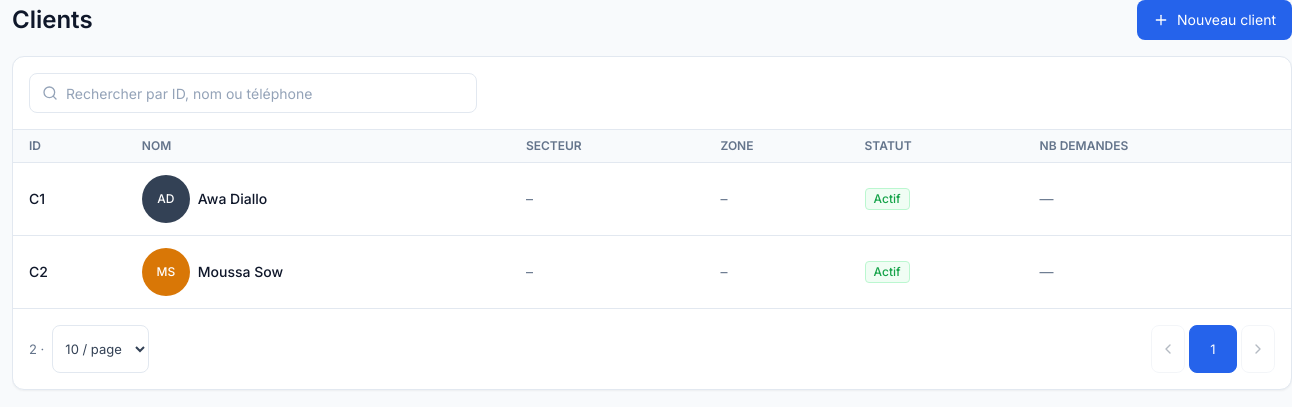
ClientsListPage › filters clients by search
Type "moussa" into the search field. click: coordinates (253, 93)
box: left=30, top=74, right=476, bottom=112
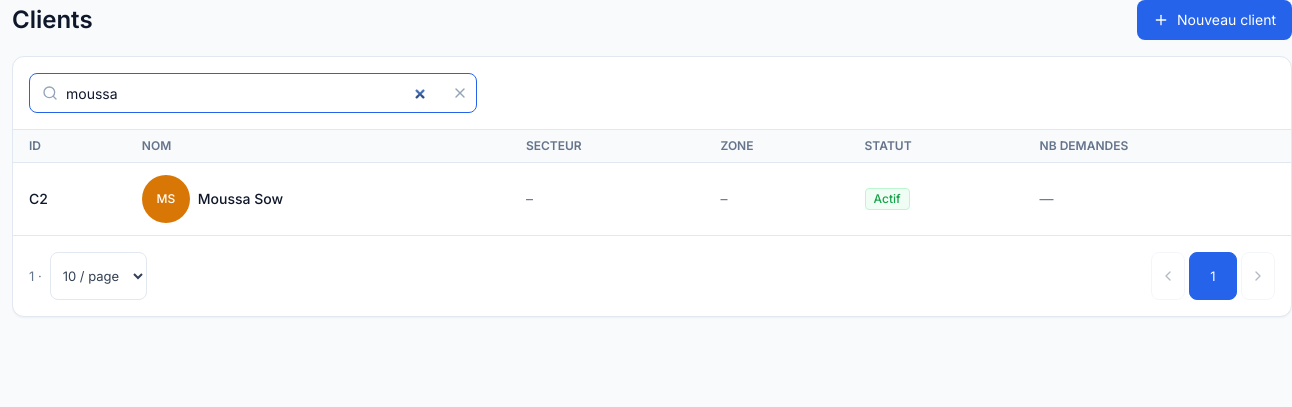
Expected: the link "MS Moussa Sow" is shown, left=142, top=175, right=283, bottom=223
Expected: the link "Awa Diallo" is gone
